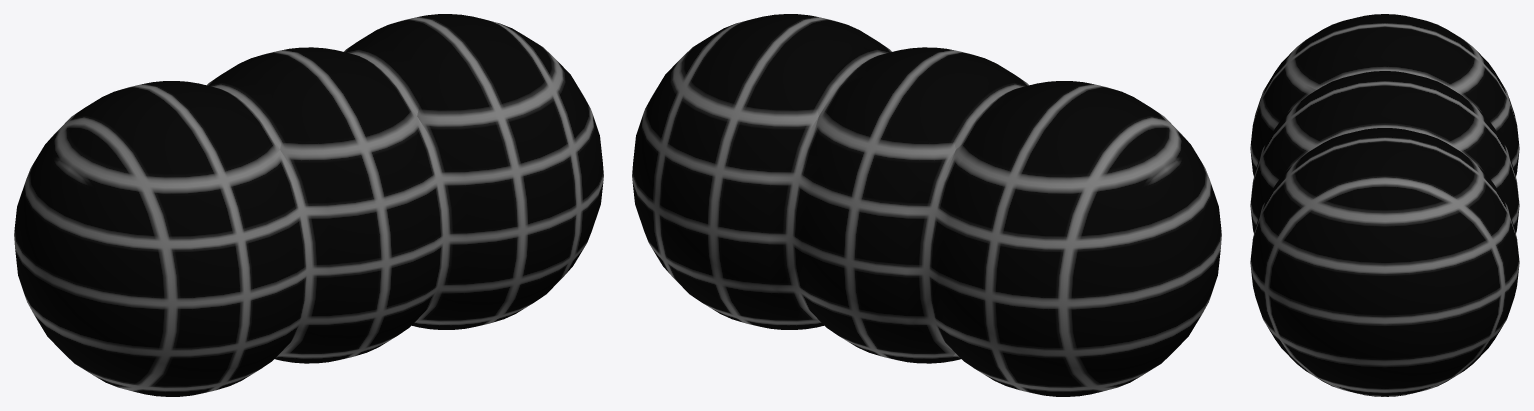
Rendered from block_magnet_cracked.glb.
The picture shows the model from 3 angles, left to right: view 1: azimuth 30°, elevation 25°; view 2: azimuth 150°, elevation 25°; view 3: azimuth 270°, elevation 25°; orthographic projection. The views are drawn at different scales.
Visible parts, largest first — view 1: magnet; view 2: magnet; view 3: magnet.
Boxes of the visible parts, left/top/right/bottom form: magnet: left=14, top=14, right=603, bottom=396; magnet: left=632, top=14, right=1221, bottom=396; magnet: left=1250, top=14, right=1519, bottom=396.
Bounding box in the file's own units: 2 × 0.9996 × 0.9996.
Materials: 1 (1 with a texture image).
